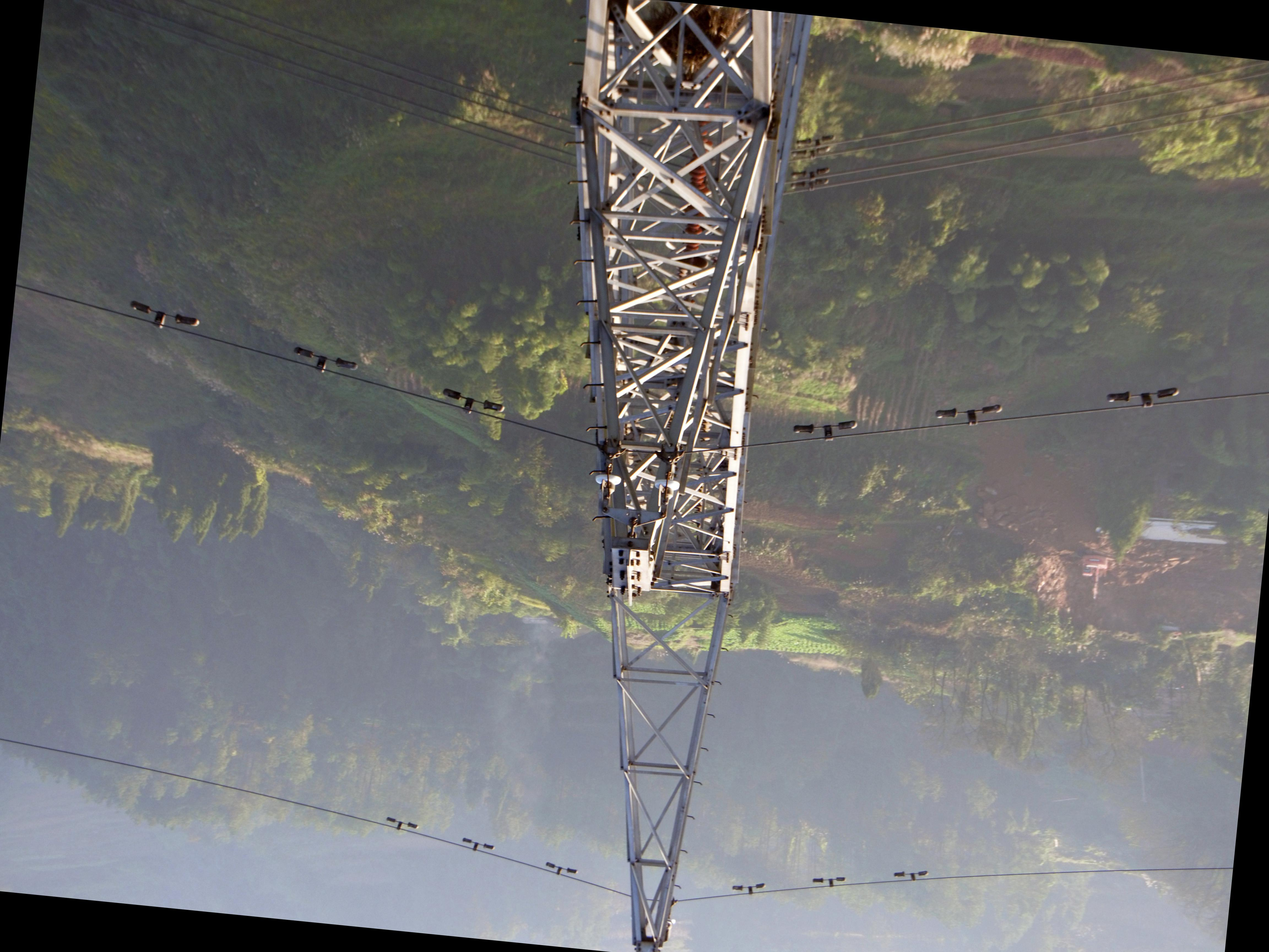damper_defect: (124, 296, 204, 337), (930, 393, 1007, 434), (1103, 377, 1183, 416), (789, 410, 862, 448), (288, 343, 362, 380), (437, 385, 509, 421), (890, 865, 932, 885), (730, 879, 767, 898), (810, 872, 848, 890), (543, 860, 579, 879), (383, 815, 421, 833), (460, 836, 497, 854)
